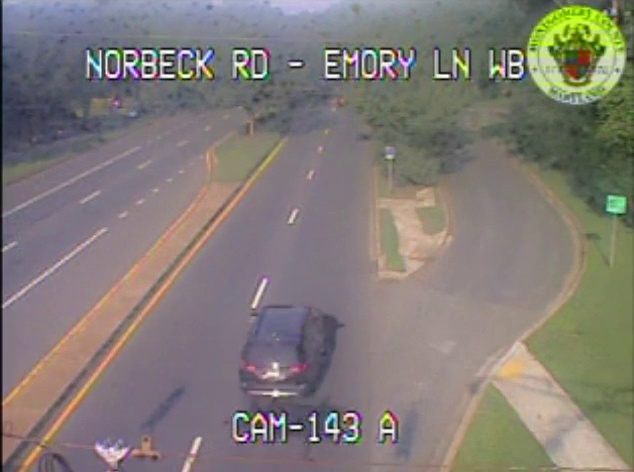car: (239, 304, 317, 398)
